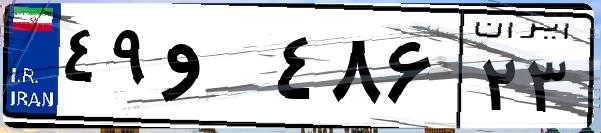2: (475, 38, 525, 113)
3: (525, 38, 570, 115)
4: (270, 28, 330, 110), (57, 26, 110, 100)
6: (385, 28, 445, 110)
8: (330, 28, 385, 110)
9: (110, 28, 158, 98)
و: (158, 20, 270, 120)
